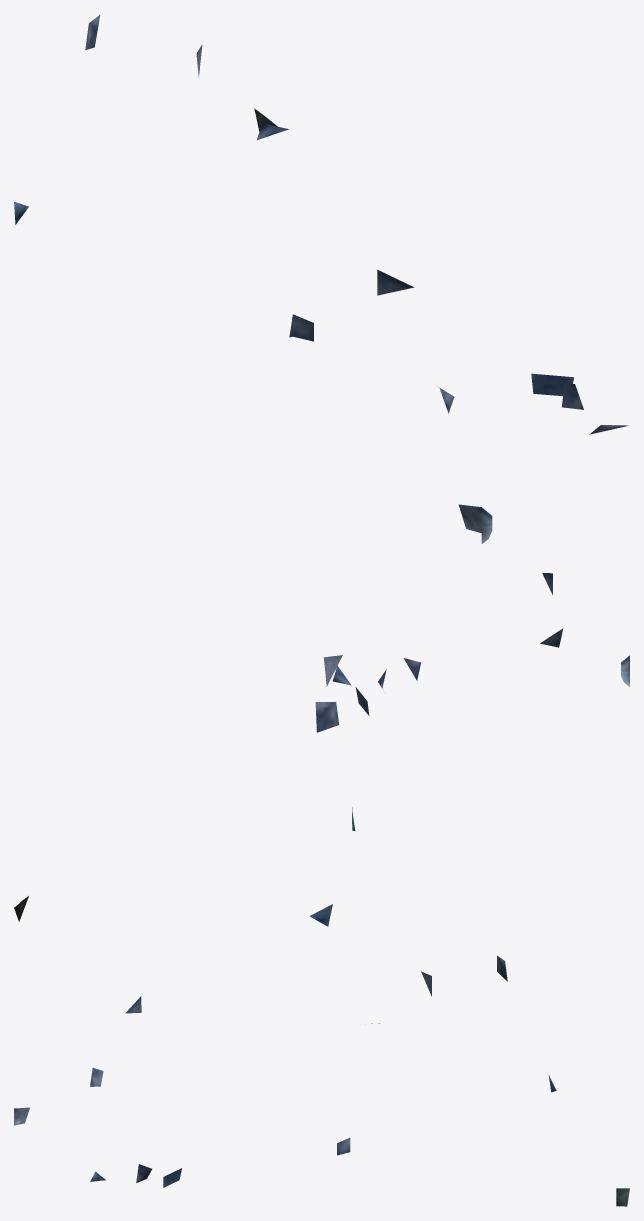
The picture shows the model from 3 angles, top to bottom: view 1: azimuth 30°, elevation 25°; view 2: azimuth 150°, elevation 25°; view 3: azimuth 270°, elevation 25°; orthographic projection. The views are drawn at different scales.
Parts seen in each view (by area): view 1: 3043627270437062762_1; view 2: 3043627270437062762_1; view 3: 3043627270437062762_1.
Part boxes in pixels (box(x1,y1,x2,y2)): 3043627270437062762_1: box(14, 15, 628, 543); 3043627270437062762_1: box(14, 573, 629, 926); 3043627270437062762_1: box(14, 955, 629, 1206).
Size of the model in its own units: 27.61 by 21.28 by 70.04.
1 material, 1 textured.
